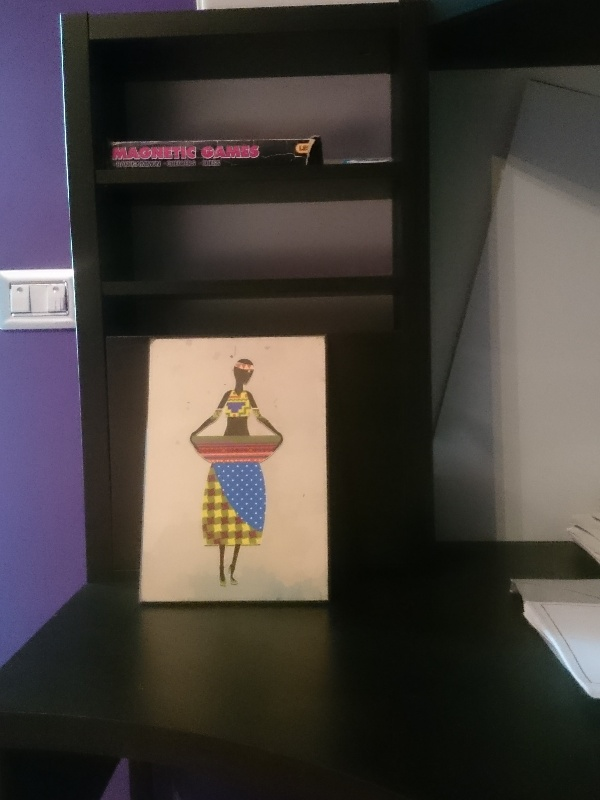my image: (141, 337, 323, 603)
